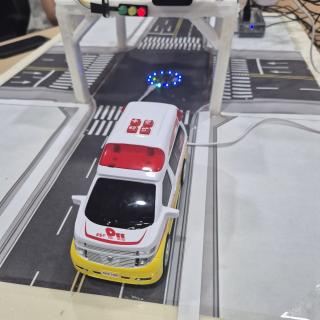Ambulance: (71, 102, 187, 284)
